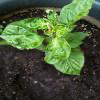Bell_pepper leaf: (58, 0, 93, 24), (52, 53, 84, 75), (44, 38, 72, 61), (10, 33, 45, 49), (12, 17, 53, 30)
